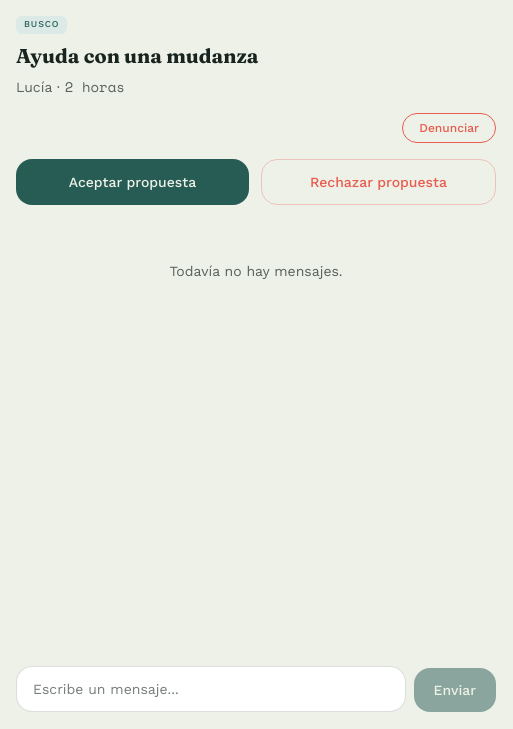
Scenario: Aceptar o rechazar la propuesta desde el chat › la autora ve las dos opciones y, al aceptar, pasa a poder confirmar
Expected: the button "Rechazar propuesta" is shown, x1=261 y1=159 x2=496 y2=205
Click the button "Aceptar propuesta".
click(132, 182)  # box x1=16 y1=159 x2=249 y2=205
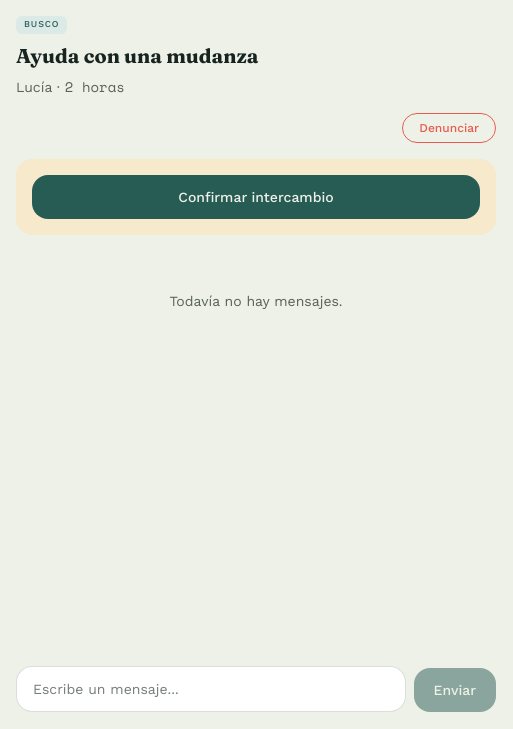
Expected: the button "Confirmar intercambio" is shown, x1=32 y1=175 x2=480 y2=219
Expected: the button "Aceptar propuesta" is gone
Expected: the button "Rechazar propuesta" is gone
